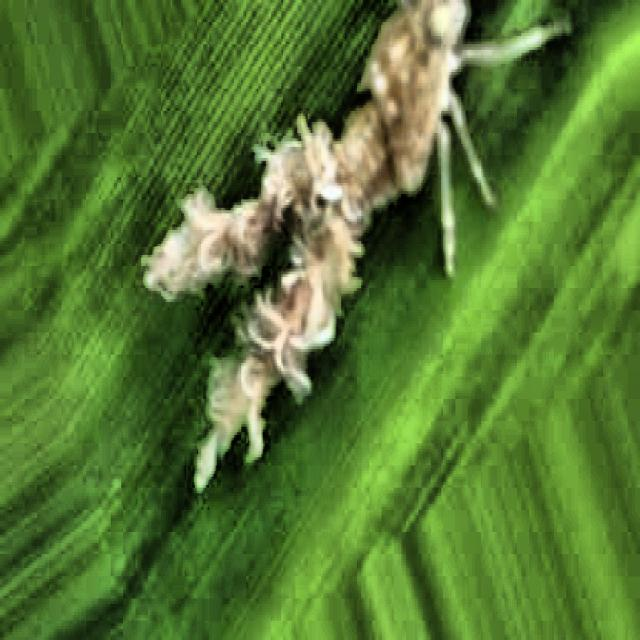Pyrilla-perpusilla: (124, 3, 640, 557)
